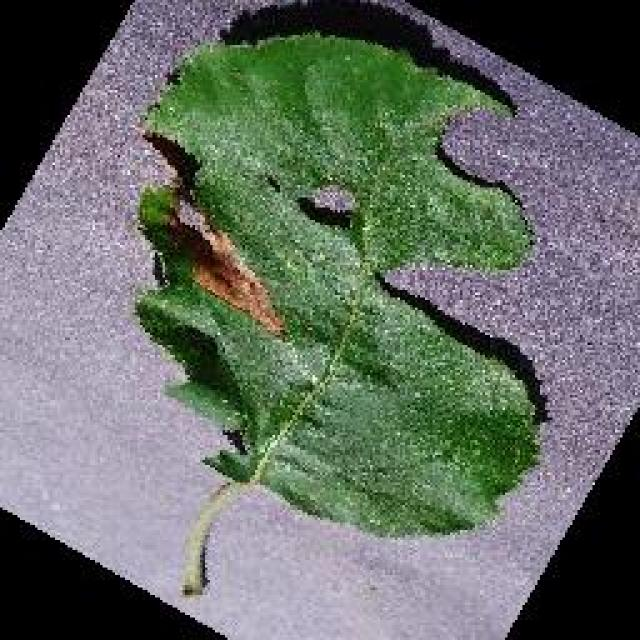Apple___Black_rot: (123, 31, 540, 546)
